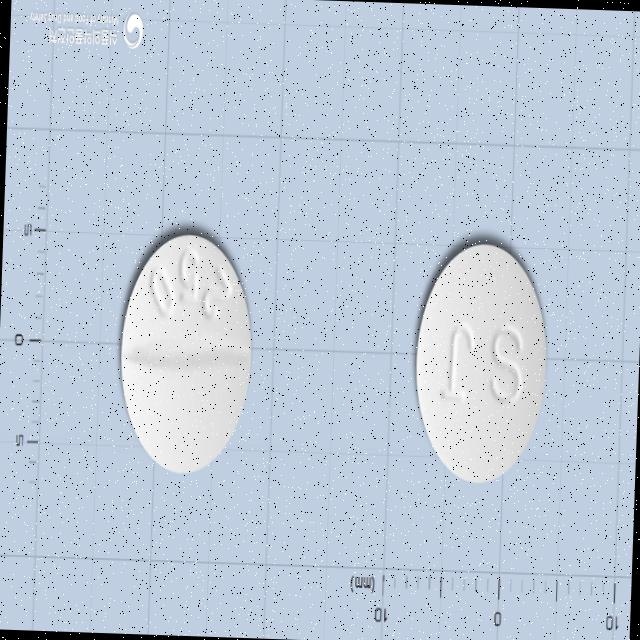Quinos Tab: (410, 238, 550, 486), (114, 231, 254, 477)
